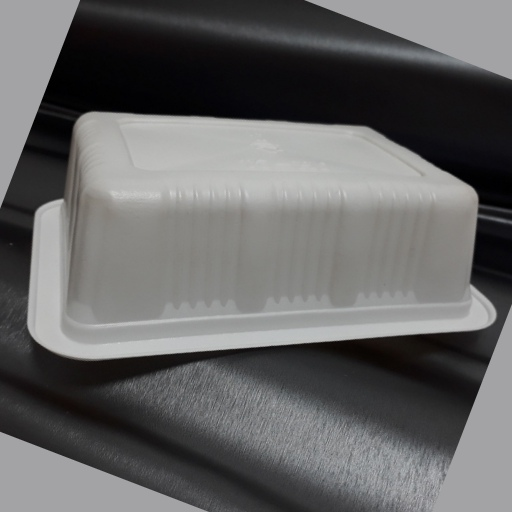Plastic_4: (25, 108, 498, 361)
